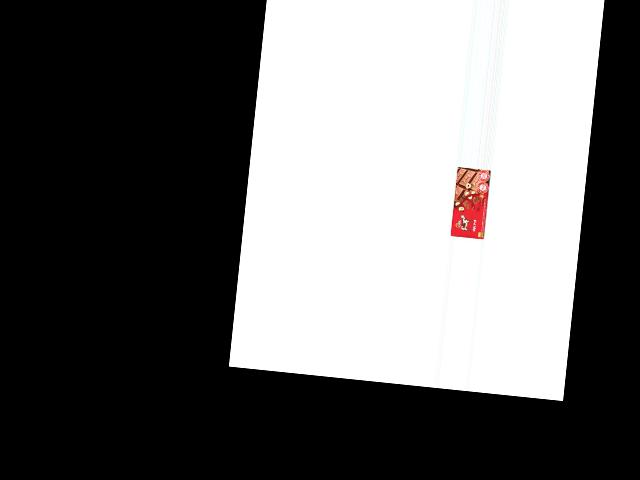chocolate: (450, 166, 491, 239)
